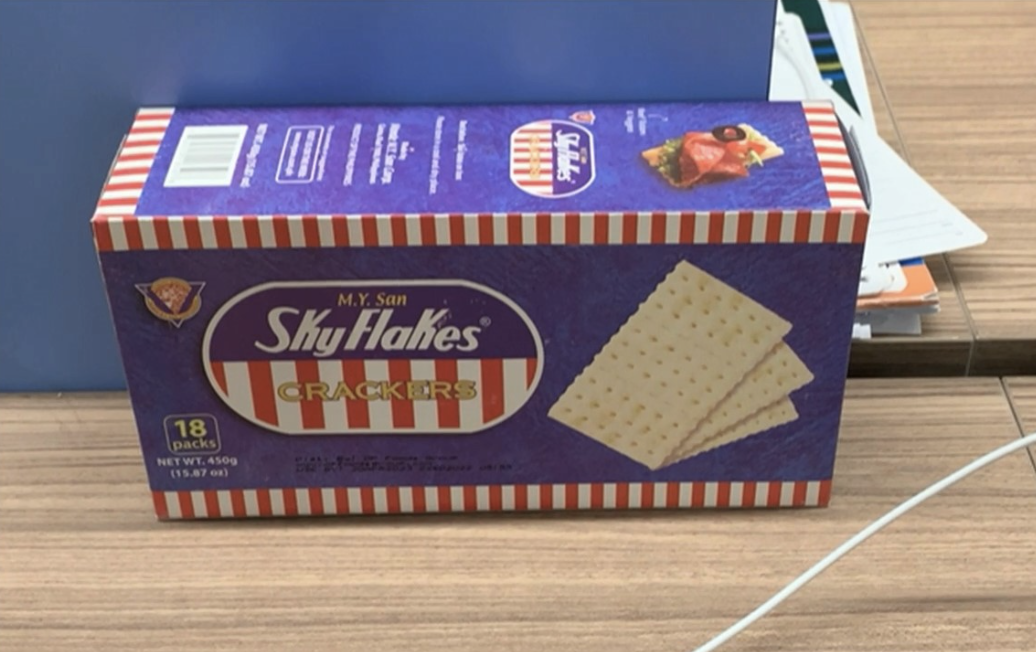crackers_450g: (139, 222, 840, 504)
